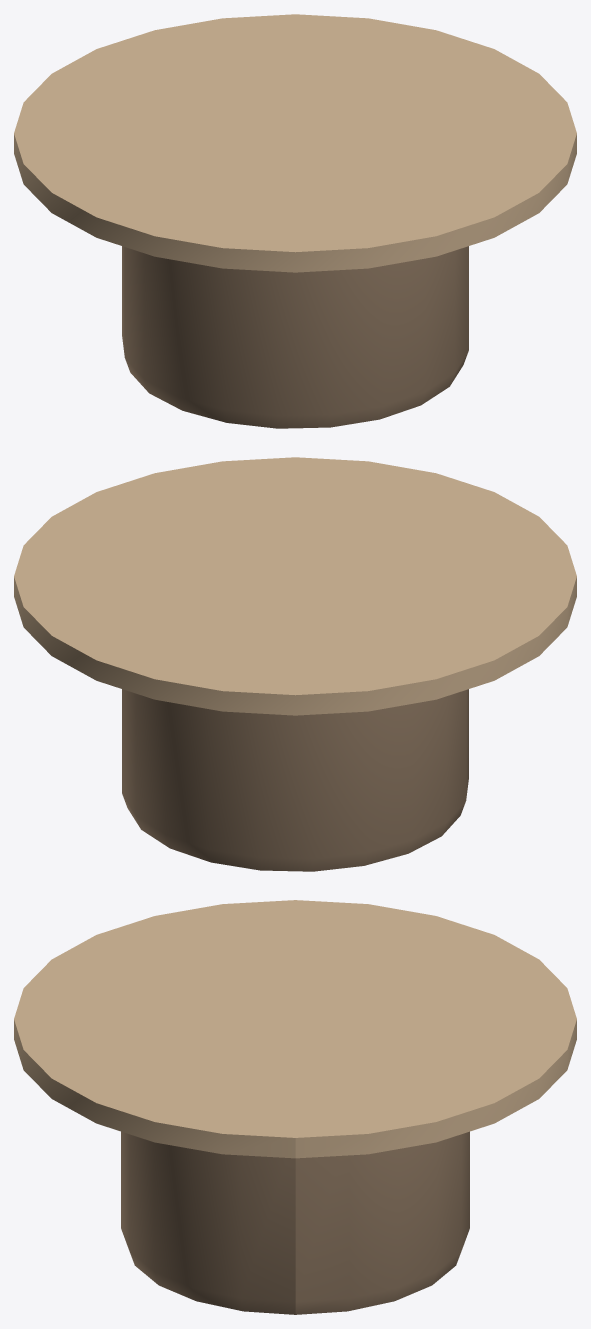
File: bedroom-and-living-room-furniture-coffee-table-round-4ab9023a.glb
3 views of the same model, one above another, from view 1: azimuth 30°, elevation 25°; view 2: azimuth 150°, elevation 25°; view 3: azimuth 270°, elevation 25° (orthographic).
Visible parts, largest first — view 1: coffee-table-round; view 2: coffee-table-round; view 3: coffee-table-round.
Boxes of the visible parts, <box> form: coffee-table-round: <box>14,14,576,428</box>; coffee-table-round: <box>14,457,576,871</box>; coffee-table-round: <box>14,900,576,1314</box>.
Size of the model in its own units: 1 by 0.44 by 1.
